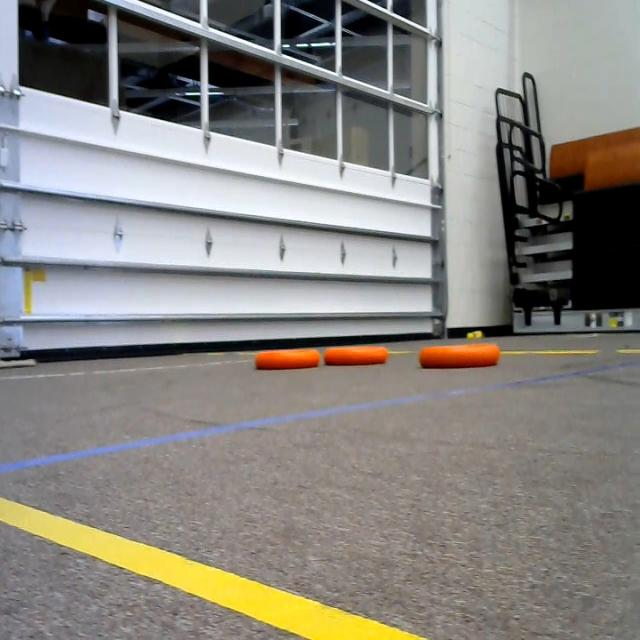note: (253, 338, 327, 372), (420, 340, 508, 366), (320, 341, 393, 369)
